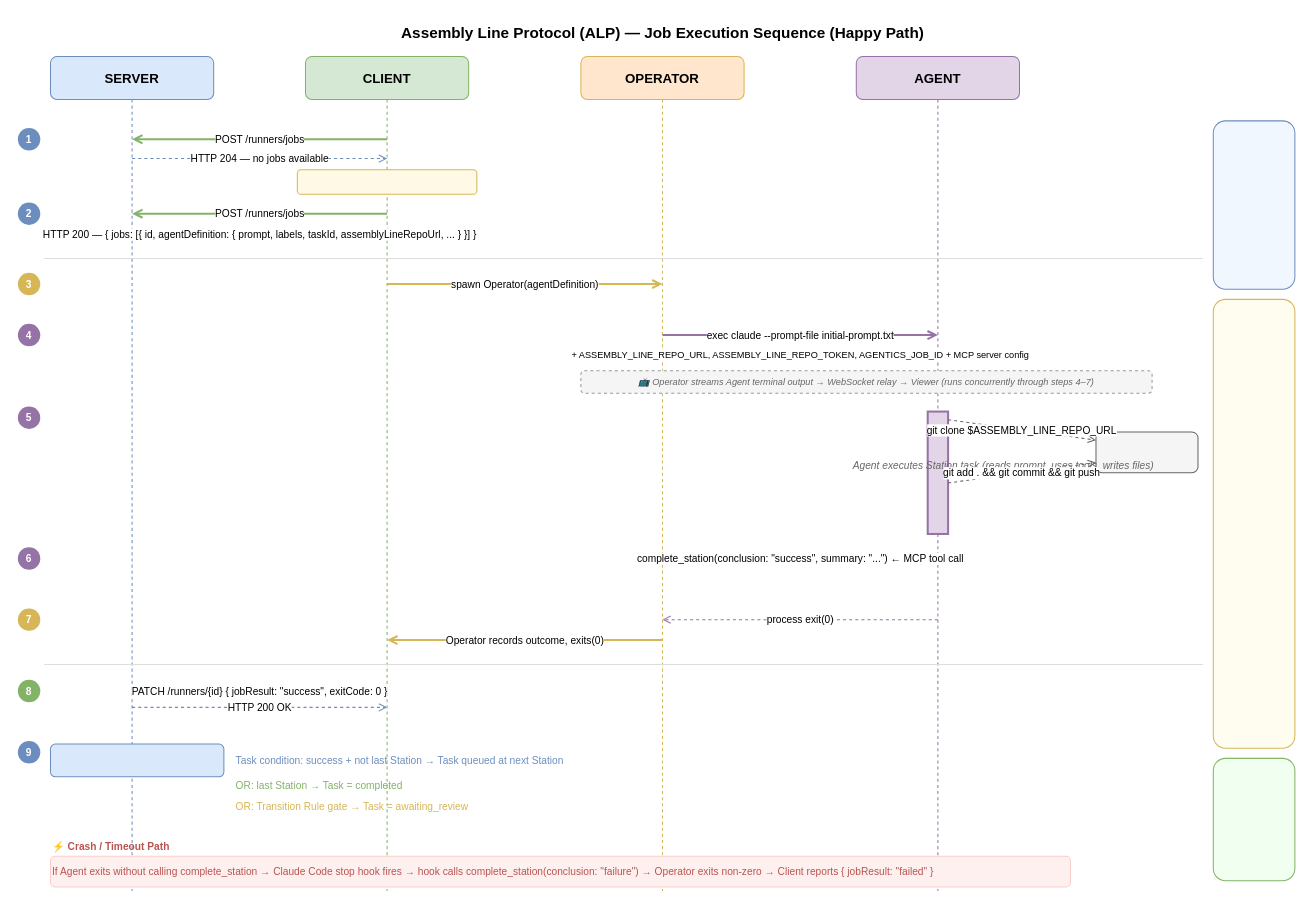
Image size: 1313x910. Some labels were removed from this diagram. The shapes that lost their labels are listed below. From the top down, each one's box as (x1, y1, x2, y2) in pixels, then its label:
(296, 169, 477, 194): ⏱ wait 10 s (polling interval)
(1212, 120, 1295, 289): POLL
(1095, 431, 1198, 473): Assembly Line Repository
(1212, 298, 1295, 748): EXECUTE
(49, 743, 224, 777): Server evaluates Transition Rules
(1212, 757, 1295, 881): REPORT
